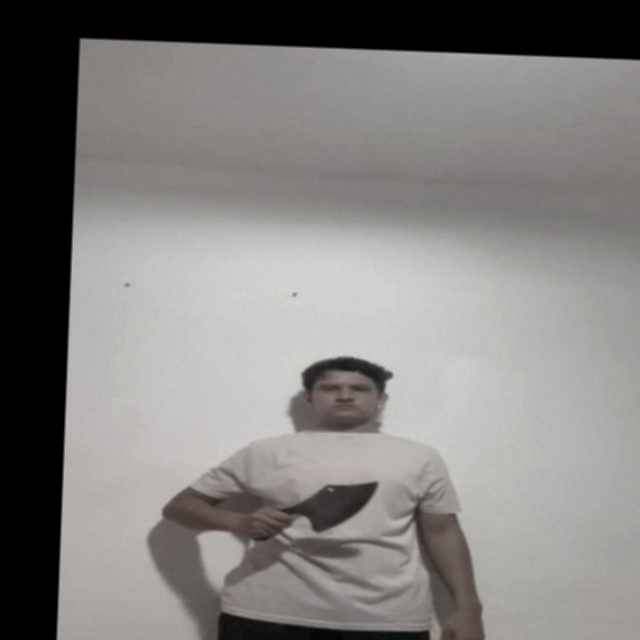Sharp-Object: (295, 473, 380, 536)
